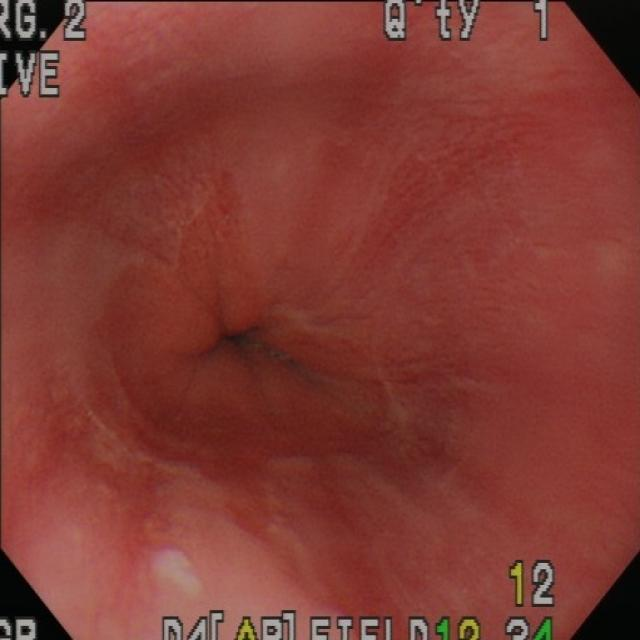I: (141, 226, 353, 454)
J: (140, 456, 315, 610)
S: (160, 611, 483, 640), (383, 3, 558, 45), (3, 3, 83, 45), (3, 50, 63, 102), (507, 561, 556, 611), (506, 617, 556, 640), (2, 617, 39, 640)
